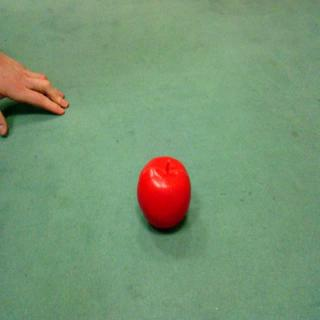apple: (131, 153, 197, 238)
